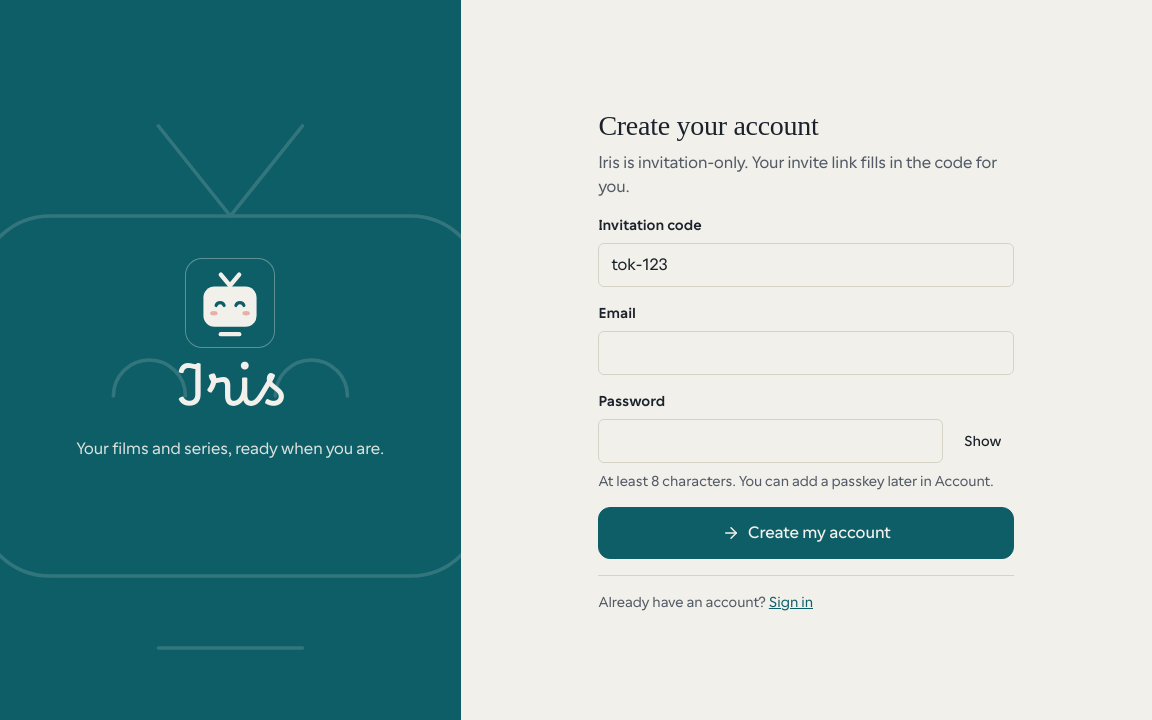
Scenario: register › a short password is said under it, nothing sent; it can be shown
Type "alex@example.com" into the field labelled "Email" at (806, 352), box [598, 330, 1014, 374]
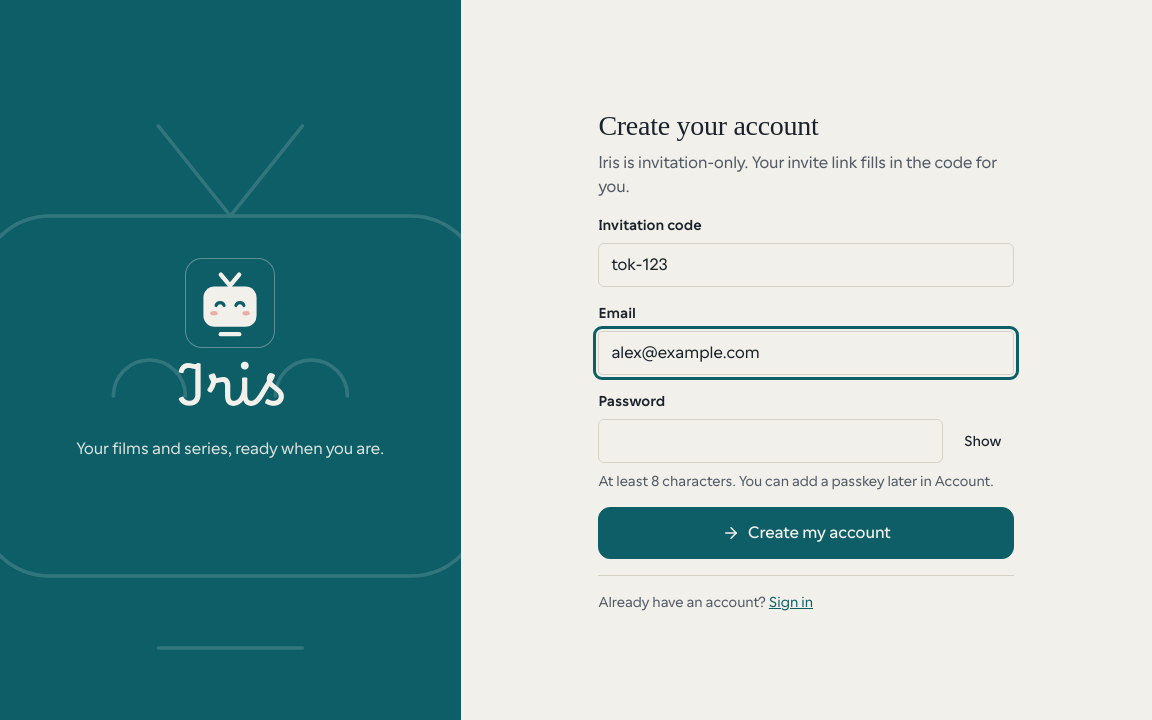
Type "short" into the password field labelled "Password" at (771, 440), box [598, 418, 943, 462]
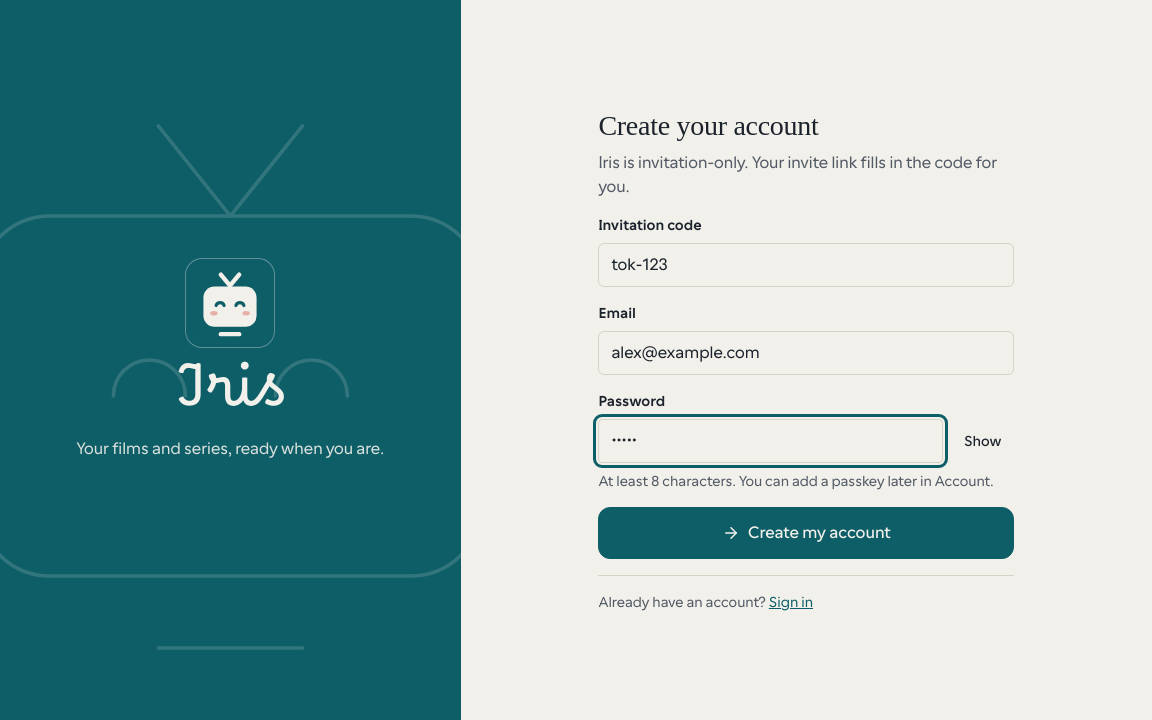
Click the button "Create my account" at (806, 532), box [598, 506, 1014, 558]
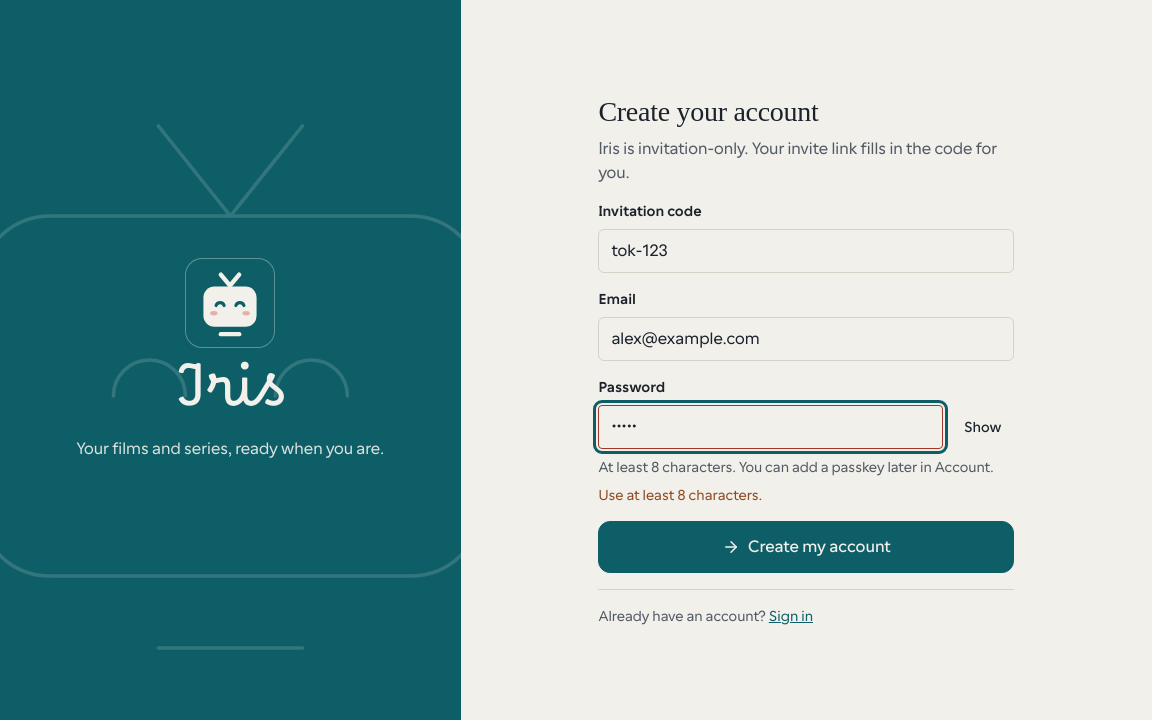
Click the button "Show" at (983, 426), box [951, 404, 1014, 448]
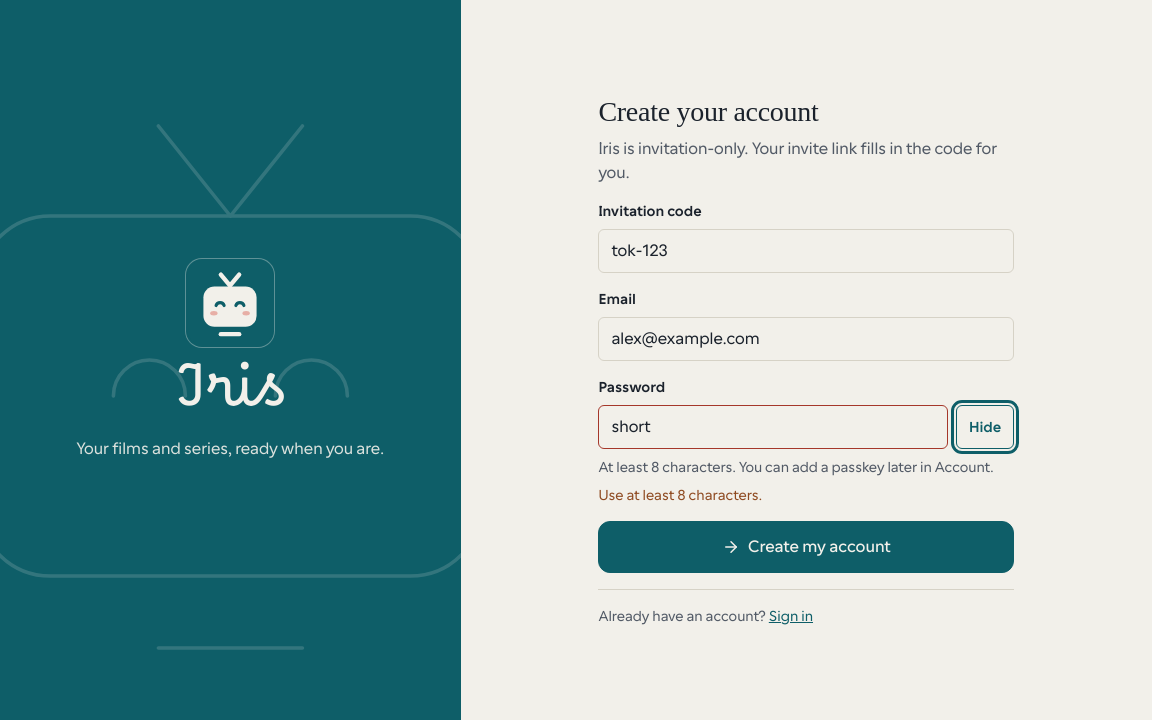
Check: the field labelled "Password" shows its text, box [598, 404, 948, 448]
